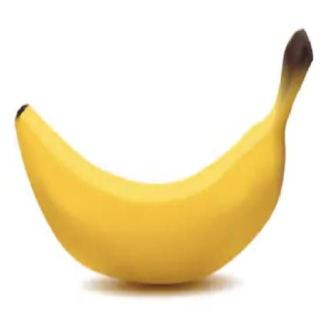banana: (14, 101, 288, 287)
